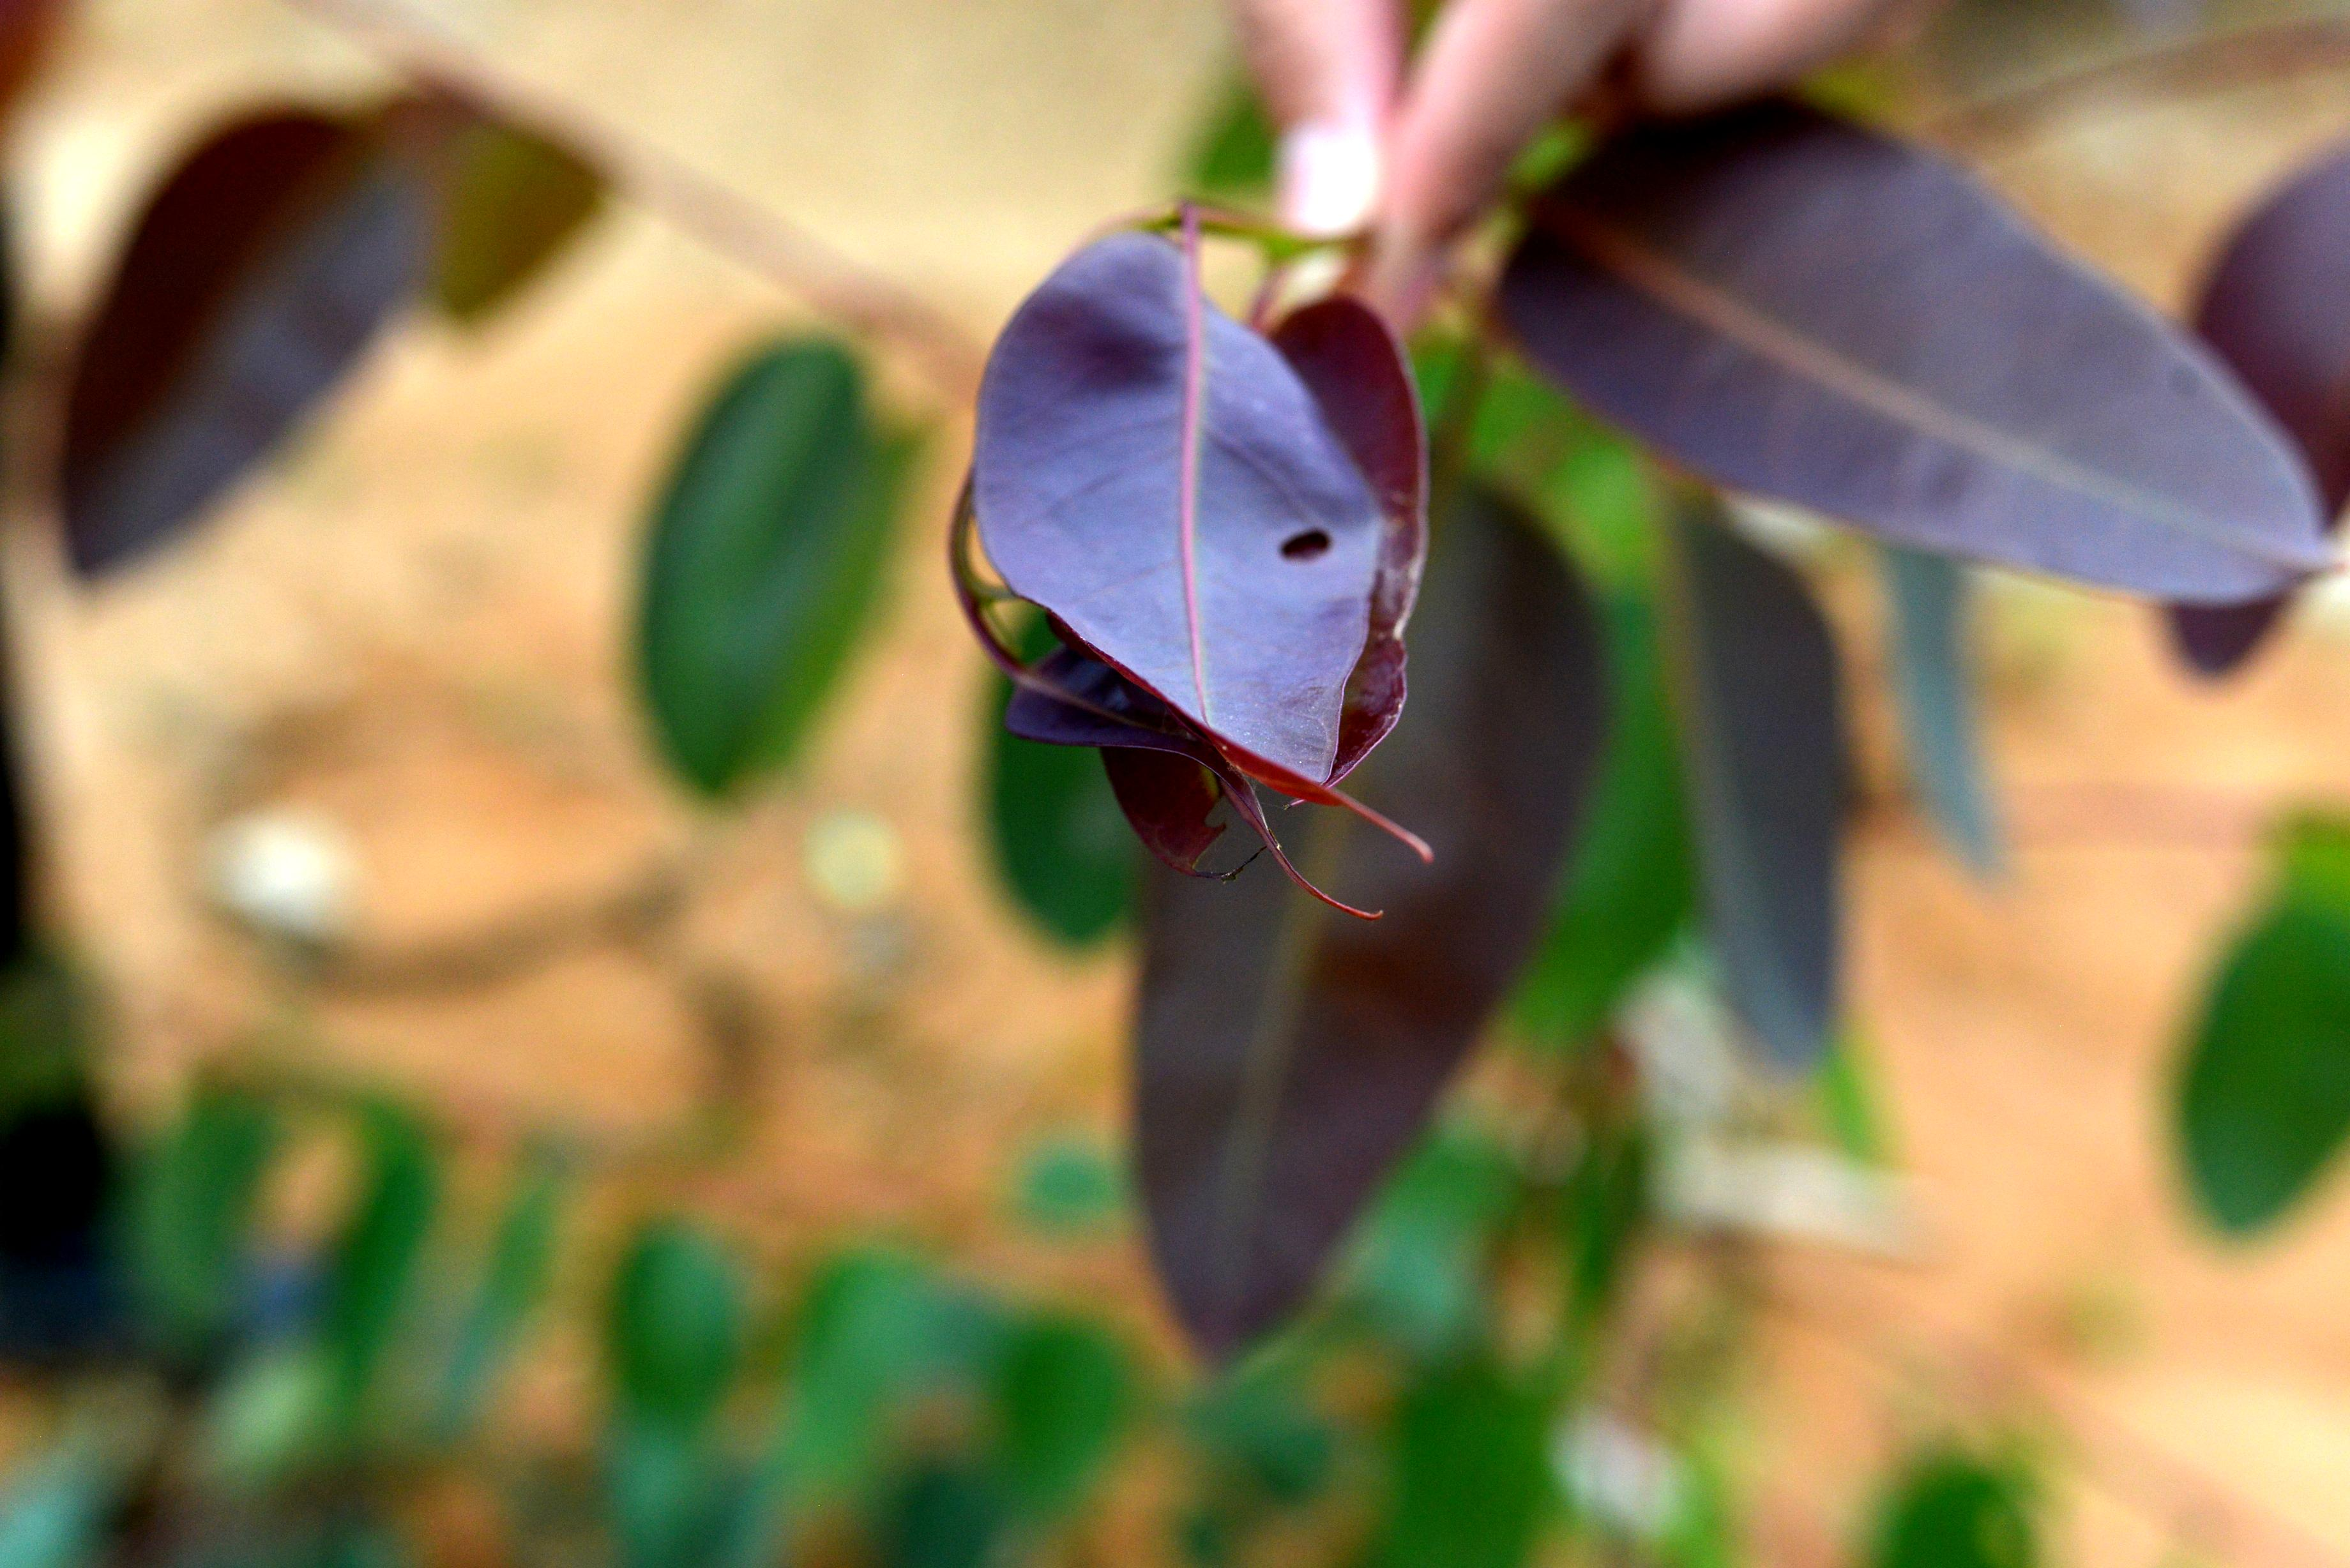Leaf Roller - Leaf: (968, 227, 1373, 817), (1063, 296, 1434, 906)
